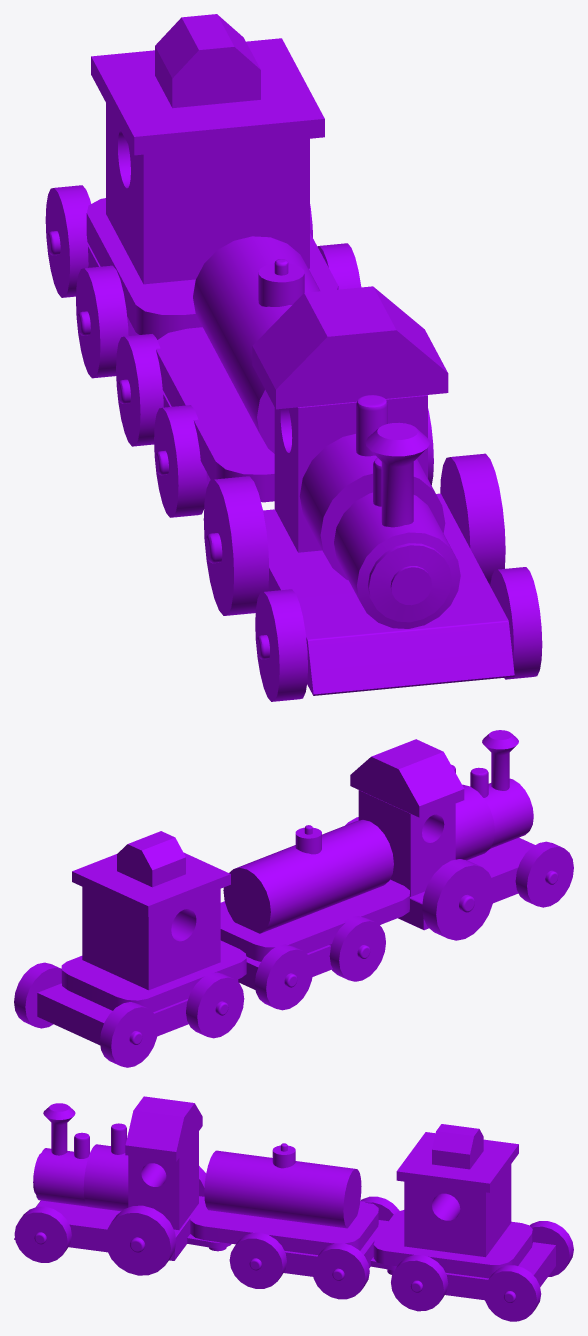
File: cufcuf.fbx
The picture shows the model from 3 angles, top to bottom: view 1: azimuth 30°, elevation 25°; view 2: azimuth 150°, elevation 25°; view 3: azimuth 270°, elevation 25°; orthographic projection. The views are drawn at different scales.
Visible parts, largest first — view 1: train; view 2: train; view 3: train.
Part boxes in pixels (x1,y1,x2,y2): train: [45, 14, 542, 701]; train: [14, 730, 573, 1067]; train: [14, 1096, 573, 1321].
Bounding box in the file's own units: 120 × 73.05 × 238.
